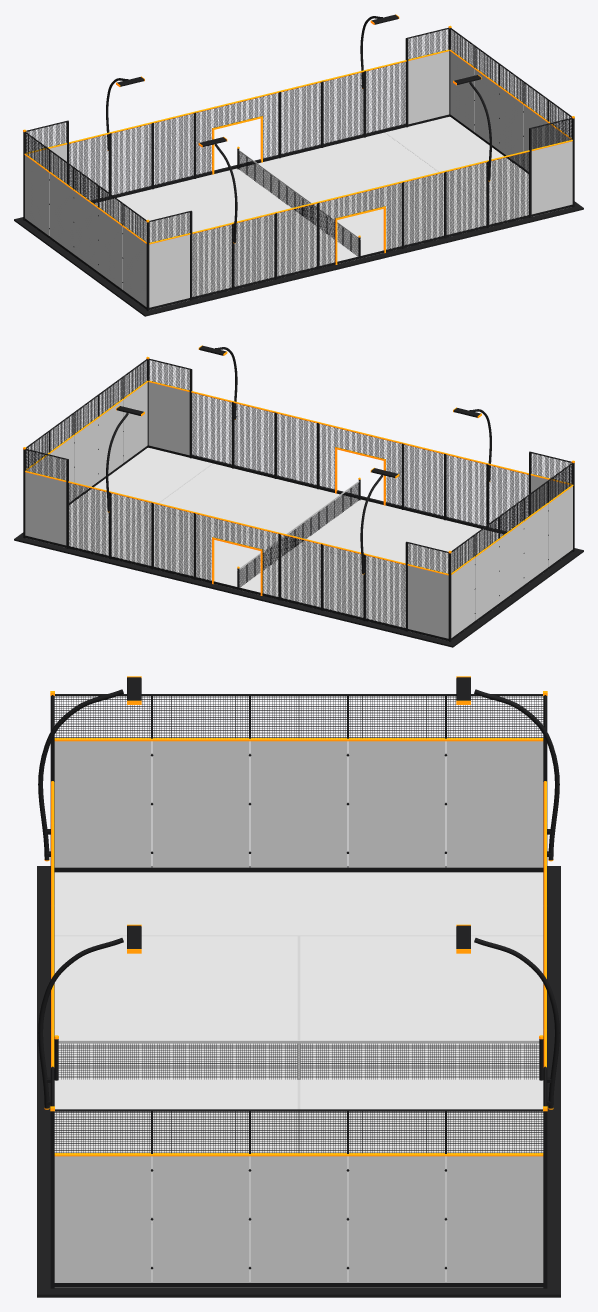
Rendered from padel_court_3d.glb.
3 renders of one model, top to bottom at view 1: azimuth 30°, elevation 25°; view 2: azimuth 150°, elevation 25°; view 3: azimuth 270°, elevation 25°, orthographic. The views are drawn at different scales.
Visible parts, largest first — view 1: turf, glass_panels, mesh_side_a-1, mesh_side_b-1, mesh_side_b1, mesh_side_a1, posts, slab, kick_plate, mesh_back-1, mesh_back1, net_cords (+10 smaller); view 2: turf, glass_panels, mesh_side_a1, mesh_side_b1, mesh_side_b-1, mesh_side_a-1, posts, slab, kick_plate, mesh_back-1, mesh_back1, net_cords (+10 smaller); view 3: turf, glass_panels, slab, mesh_back1, mesh_back-1, net_cords, kick_plate, posts, rail_o_back-1, rail_o_back1, net_band, court_lines (+8 smaller).
Part boxes in pixels (x1,y1,x2,y2): turf: (95, 116, 528, 296); glass_panels: (25, 51, 572, 307); mesh_side_a-1: (192, 199, 336, 299); mesh_side_b-1: (385, 152, 529, 252); mesh_side_b1: (261, 62, 405, 159); mesh_side_a1: (69, 109, 212, 200); posts: (23, 28, 574, 310); slab: (14, 124, 583, 316); kick_plate: (25, 114, 572, 309); mesh_back-1: (25, 133, 146, 241); mesh_back1: (451, 29, 571, 137); net_cords: (239, 152, 360, 256); turf: (69, 447, 502, 627); glass_panels: (25, 382, 572, 638); mesh_side_a1: (261, 530, 405, 630); mesh_side_b1: (68, 483, 212, 583); mesh_side_b-1: (192, 393, 336, 490); mesh_side_a-1: (385, 440, 528, 531); posts: (23, 359, 574, 641); slab: (14, 455, 583, 647); kick_plate: (25, 445, 572, 640); mesh_back-1: (451, 464, 572, 572); mesh_back1: (26, 360, 146, 468); net_cords: (237, 483, 358, 587); turf: (54, 872, 543, 1287); glass_panels: (54, 741, 543, 1282); slab: (37, 866, 560, 1297); mesh_back1: (54, 1111, 543, 1153); mesh_back-1: (54, 696, 543, 738); net_cords: (58, 1044, 539, 1079); kick_plate: (54, 867, 543, 1287); posts: (50, 696, 547, 1288); rail_o_back-1: (54, 738, 543, 741); rail_o_back1: (54, 1153, 543, 1156); net_band: (58, 1040, 539, 1043); court_lines: (54, 935, 543, 1223).
Bounding box in the file's own units: 20.7 × 6.1 × 10.7.
